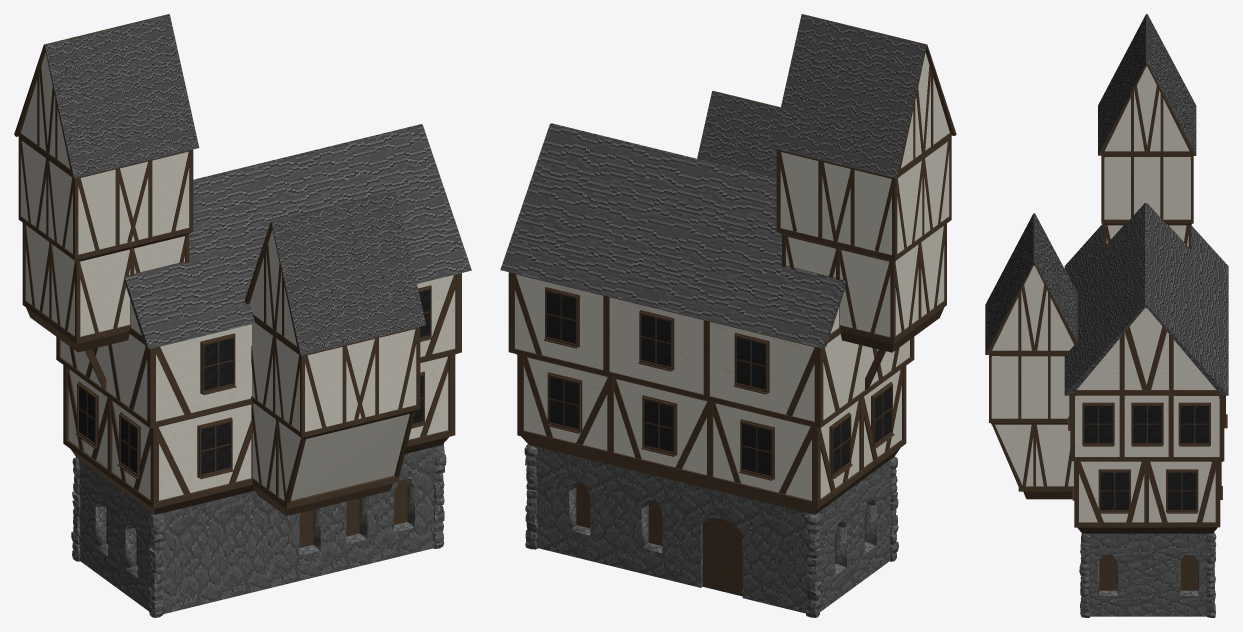
The model's file is MedievalHouse03.fbx.
The picture shows the model from 3 angles, left to right: view 1: azimuth 30°, elevation 25°; view 2: azimuth 150°, elevation 25°; view 3: azimuth 270°, elevation 25°; orthographic projection. The views are drawn at different scales.
Parts seen in each view (by area): view 1: Cube.001; view 2: Cube.001; view 3: Cube.001.
Part boxes in pixels (x1=…): Cube.001: x1=14, y1=14, x2=471, y2=617; Cube.001: x1=500, y1=14, x2=956, y2=617; Cube.001: x1=985, y1=14, x2=1228, y2=617.
Bounding box in the file's own units: 1175 × 1671 × 800.
